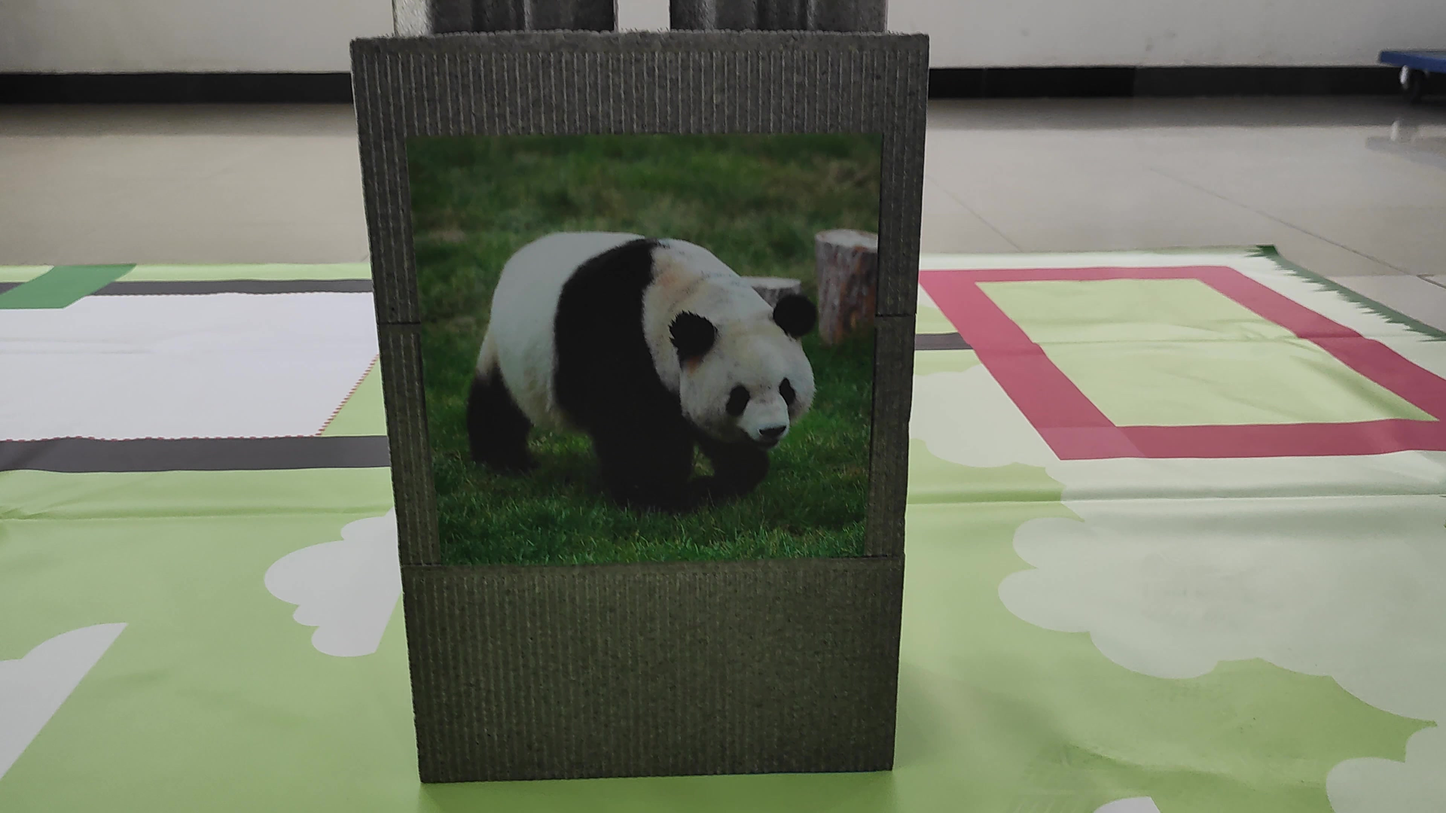panda: (444, 193, 810, 520)
